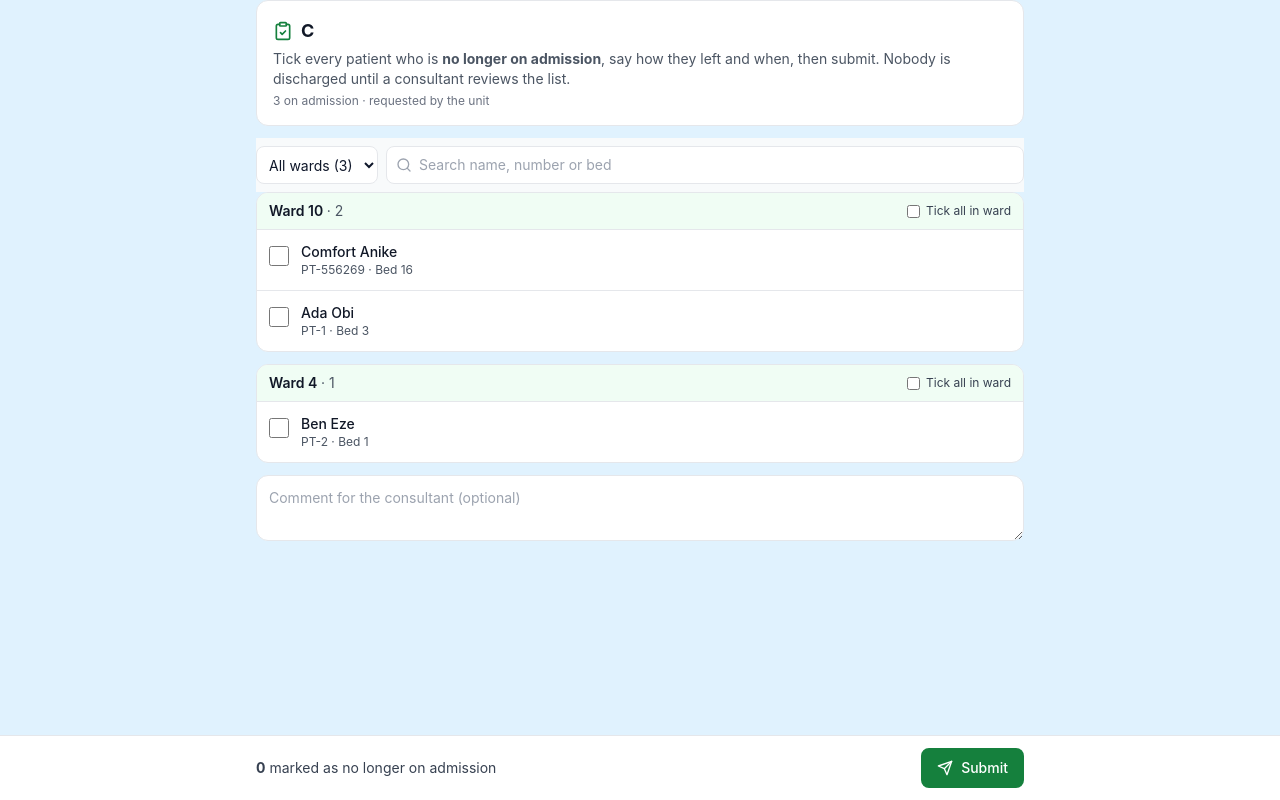
Test case: WardCensusFormPage › "Other" needs a note
Click the checkbox named "Ben Eze is no longer on admission" at {"x": 279, "y": 428}, box [269, 418, 289, 438]
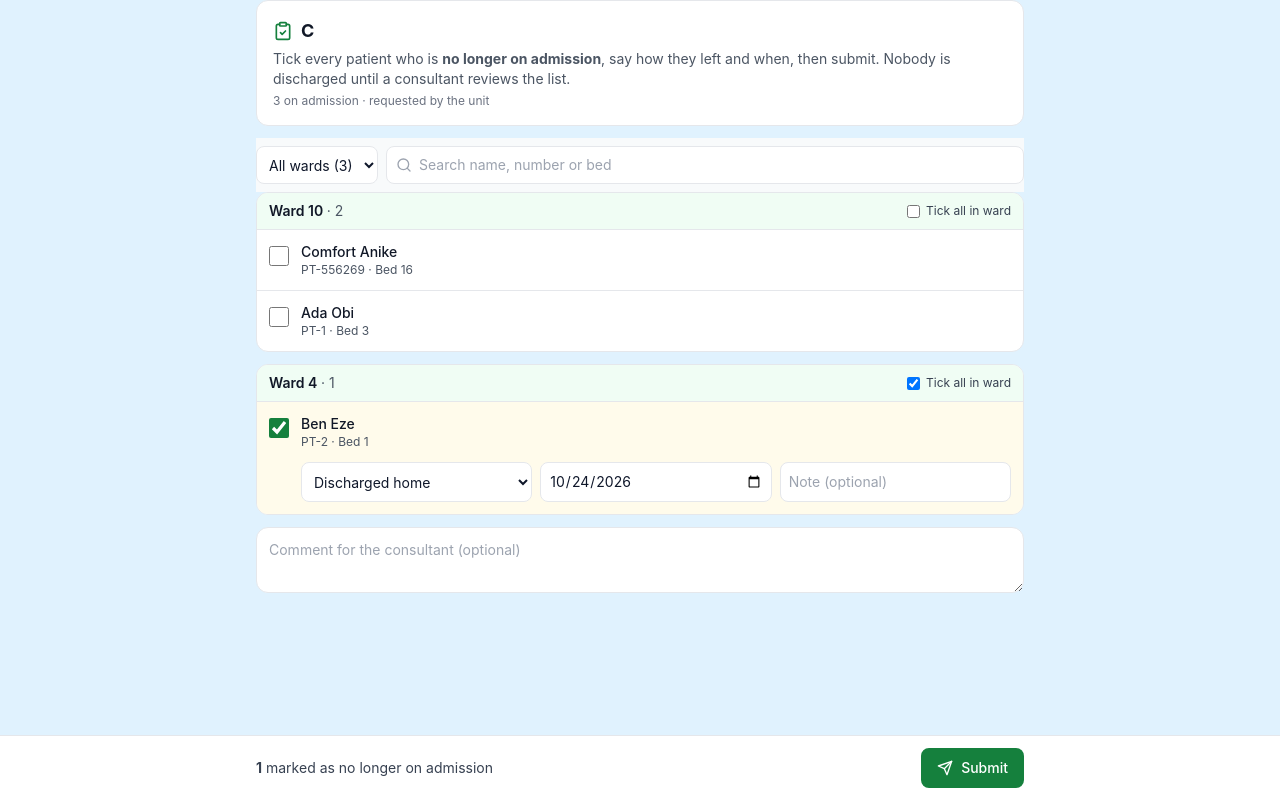
Select "Other (say what)" in the dropdown named "How they left" at {"x": 417, "y": 482}, box [301, 462, 532, 502]
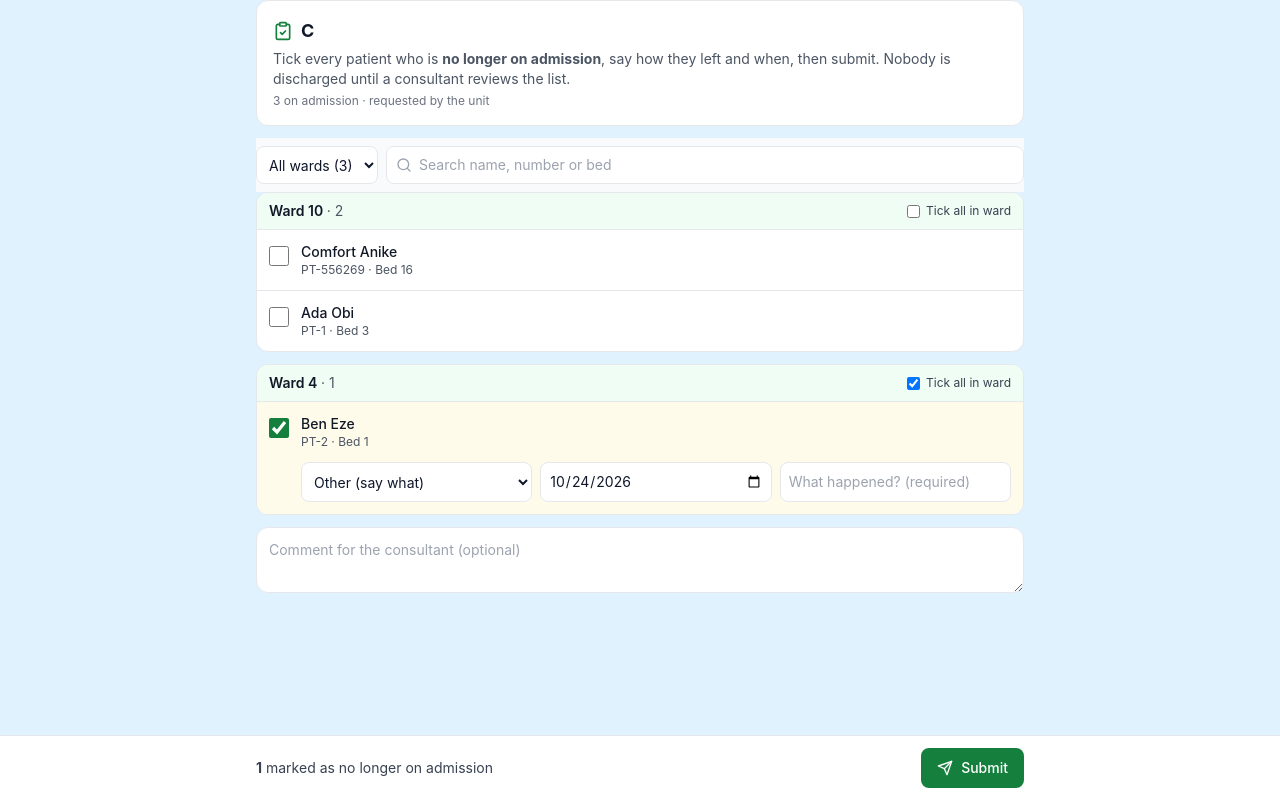
Click the button "Submit" at {"x": 973, "y": 768}, box [921, 748, 1024, 788]
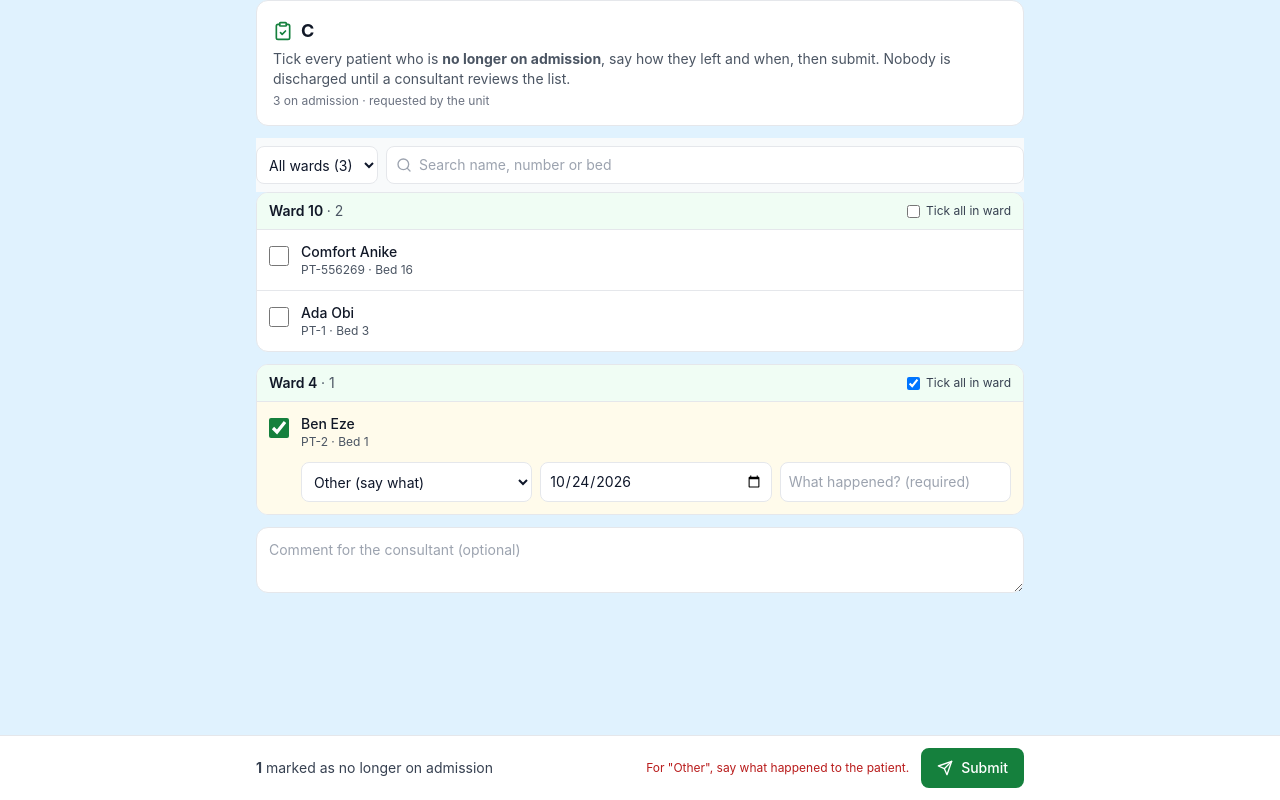
Result: the text "For \"Other\", say what happened to the patient." is shown at [646, 760, 909, 775]
